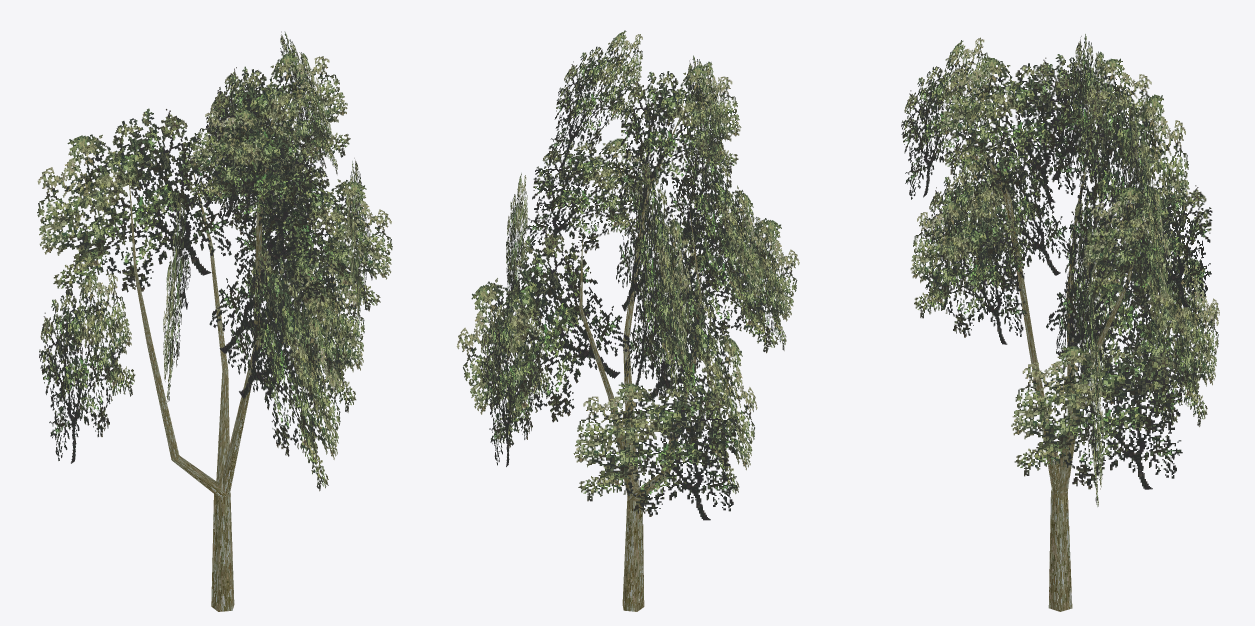
The model's file is stage-sanf-p2-66.glb.
The picture shows the model from 3 angles, left to right: view 1: azimuth 30°, elevation 25°; view 2: azimuth 150°, elevation 25°; view 3: azimuth 270°, elevation 25°; orthographic projection. The views are drawn at different scales.
Size of the model in its own units: 9.47 by 14.42 by 8.9.
Materials: 2 (2 with a texture image).
